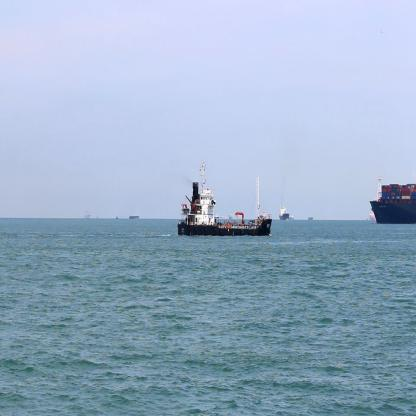Container Ship: (172, 158, 273, 240), (368, 169, 416, 227), (276, 200, 288, 222), (128, 210, 140, 222), (81, 207, 91, 220), (288, 213, 295, 224)
